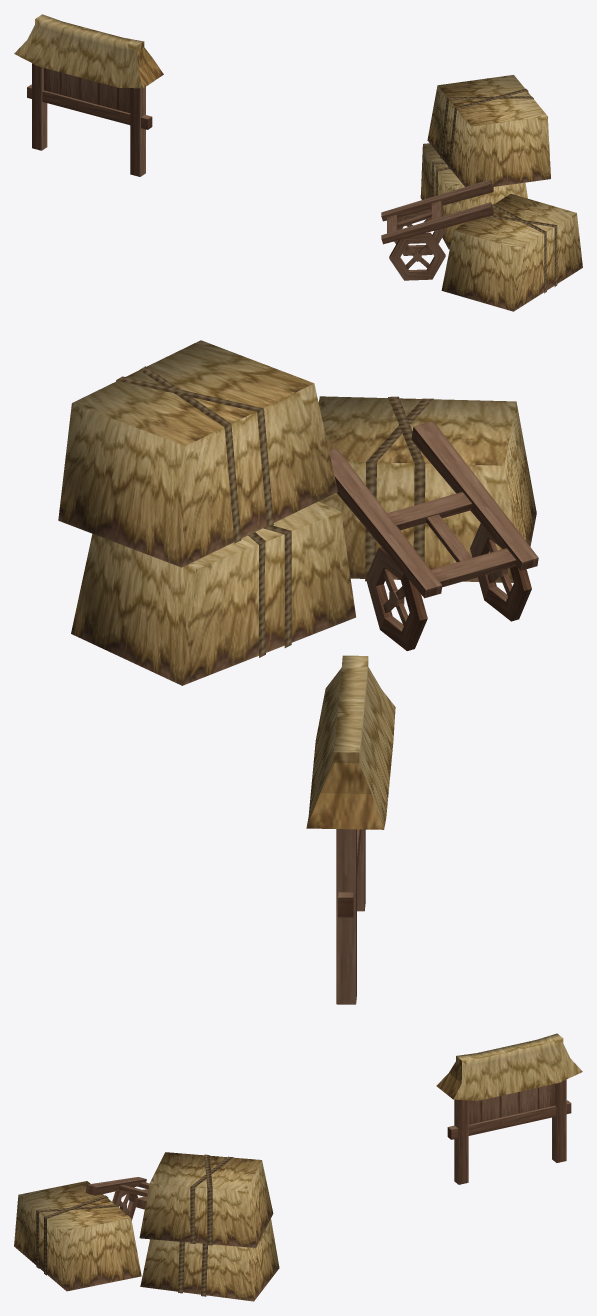
Rendered from Area_12_60.fbx.
The picture shows the model from 3 angles, top to bottom: view 1: azimuth 30°, elevation 25°; view 2: azimuth 150°, elevation 25°; view 3: azimuth 270°, elevation 25°; orthographic projection. The views are drawn at different scales.
Parts seen in each view (by area): view 1: Area_12_60; view 2: Area_12_60; view 3: Area_12_60.
Boxes of the visible parts, x1,y1,x2,y2 form: Area_12_60: (14,14,582,311); Area_12_60: (58,340,538,1004); Area_12_60: (14,1033,582,1301).
Bounding box in the file's own units: 767 × 291 × 1192.
